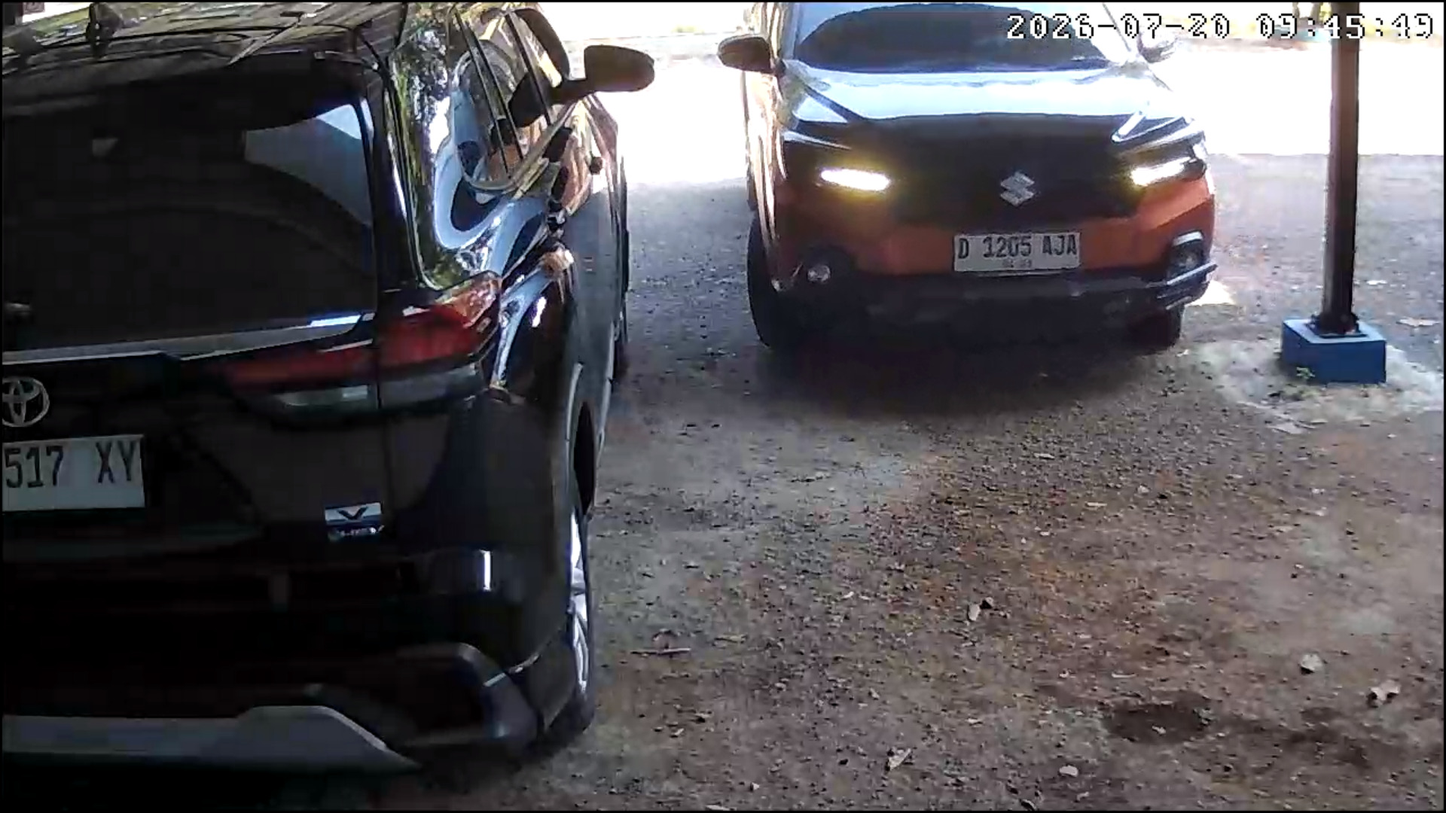plat nomor: (0, 432, 153, 521), (952, 230, 1082, 275)
